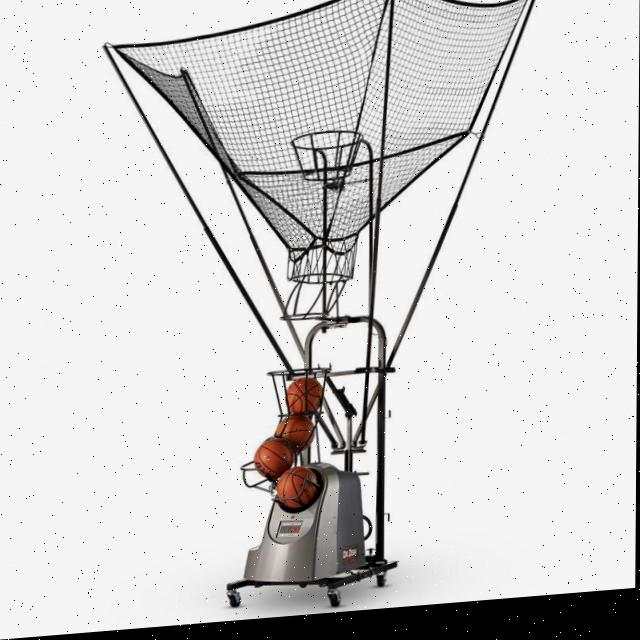basketball: (277, 465, 318, 511), (255, 438, 293, 481), (275, 414, 315, 453), (286, 375, 323, 416)
hoop: (290, 128, 364, 183)
